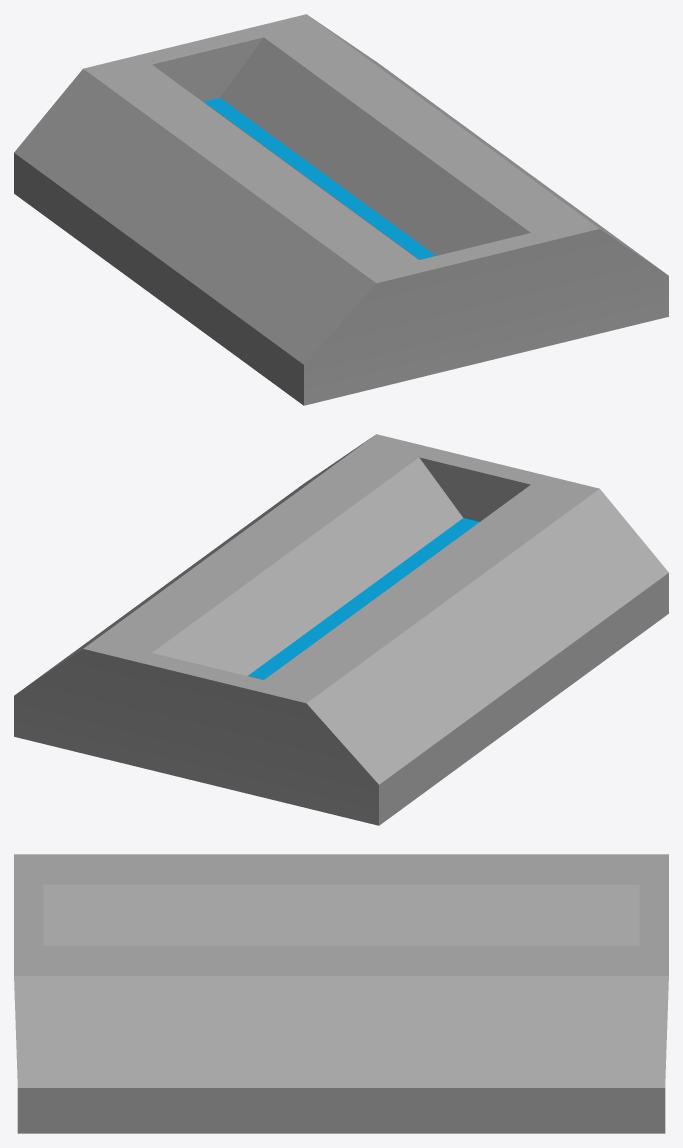
File: Joe_Item_GrenadeAmmoBoxFuta.fbx
The picture shows the model from 3 angles, top to bottom: view 1: azimuth 30°, elevation 25°; view 2: azimuth 150°, elevation 25°; view 3: azimuth 270°, elevation 25°; orthographic projection. The views are drawn at different scales.
Parts seen in each view (by area): view 1: pCube268; view 2: pCube268; view 3: pCube268.
Boxes of the visible parts, left/top/right/bottom form: pCube268: left=14, top=14, right=668, bottom=405; pCube268: left=14, top=434, right=668, bottom=825; pCube268: left=14, top=854, right=668, bottom=1133.
Size of the model in its own units: 21.17 by 5.9 by 29.46.
